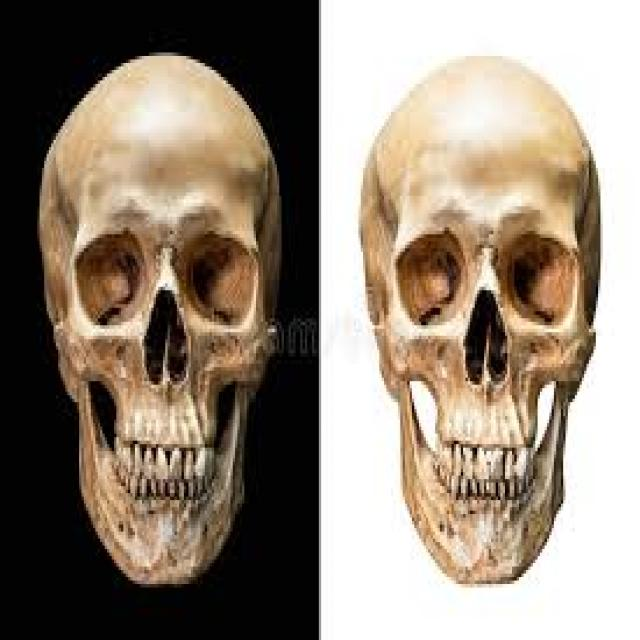skull: (32, 42, 292, 587)
